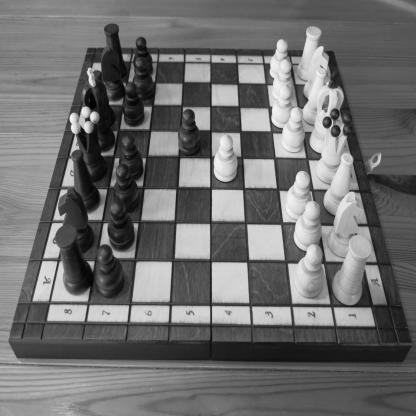black-bishop: (71, 149, 100, 213), (91, 68, 117, 127)
black-king: (81, 66, 116, 152)
black-knight: (58, 186, 93, 253), (100, 45, 124, 100)
black-pawn: (94, 244, 126, 299), (106, 200, 135, 251), (119, 133, 144, 181), (177, 108, 202, 156), (114, 163, 138, 212), (131, 56, 154, 100), (128, 79, 150, 124), (134, 36, 153, 74)
black-queen: (68, 106, 108, 182)
black-rook: (54, 223, 94, 296), (104, 22, 128, 79)
white-bishop: (324, 151, 356, 216), (302, 66, 326, 126)
white-king: (309, 70, 345, 154)
white-knight: (328, 190, 366, 260), (304, 44, 332, 102)
white-pawn: (294, 243, 325, 299), (293, 200, 322, 252), (285, 170, 313, 220), (214, 134, 238, 184), (281, 105, 305, 153), (271, 83, 294, 128), (269, 38, 291, 79), (272, 58, 293, 100)
white-queen: (316, 107, 353, 184)
white-rook: (332, 233, 374, 308), (296, 25, 323, 81)
